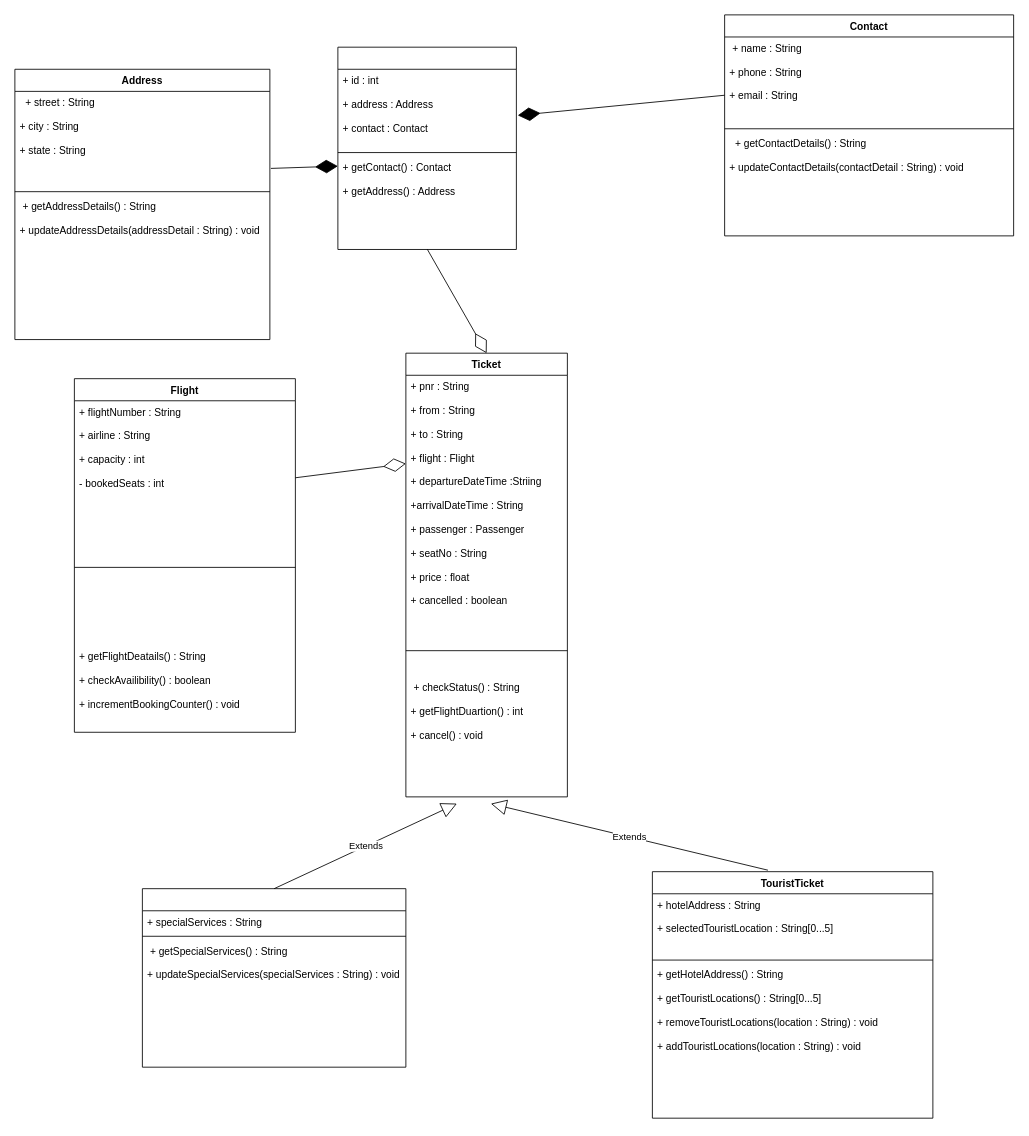
The diagram is 1029 pixels wide and 1136 high, and some of its shapes have lost their labels. The box of each missing label's shape, as (x1, y1, x2, y2) in pixels:
Passenger: (337, 46, 516, 249)
RegularTicket: (142, 888, 406, 1067)
